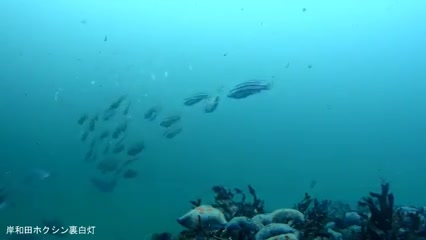bera: (226, 77, 275, 100)
